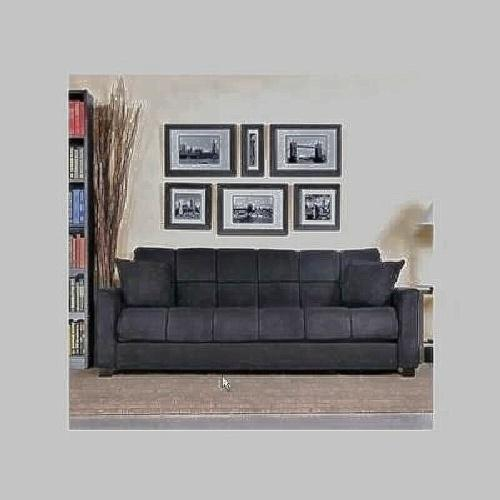sofa: (102, 246, 418, 379)
